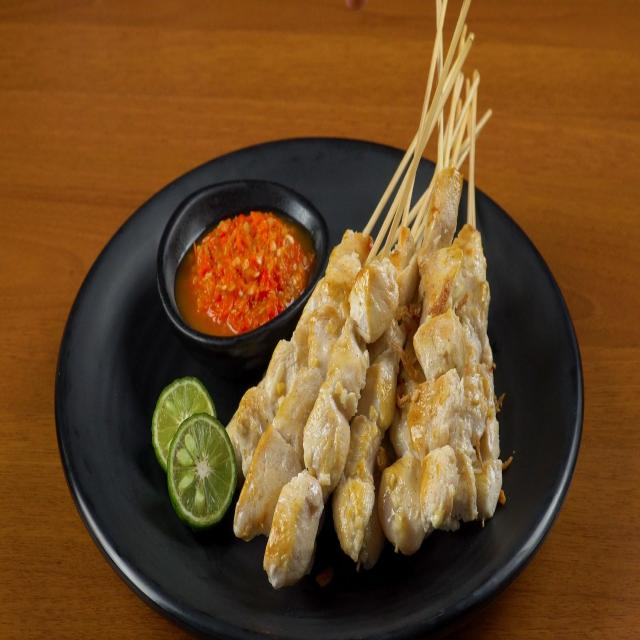Sate: (263, 30, 528, 588)
